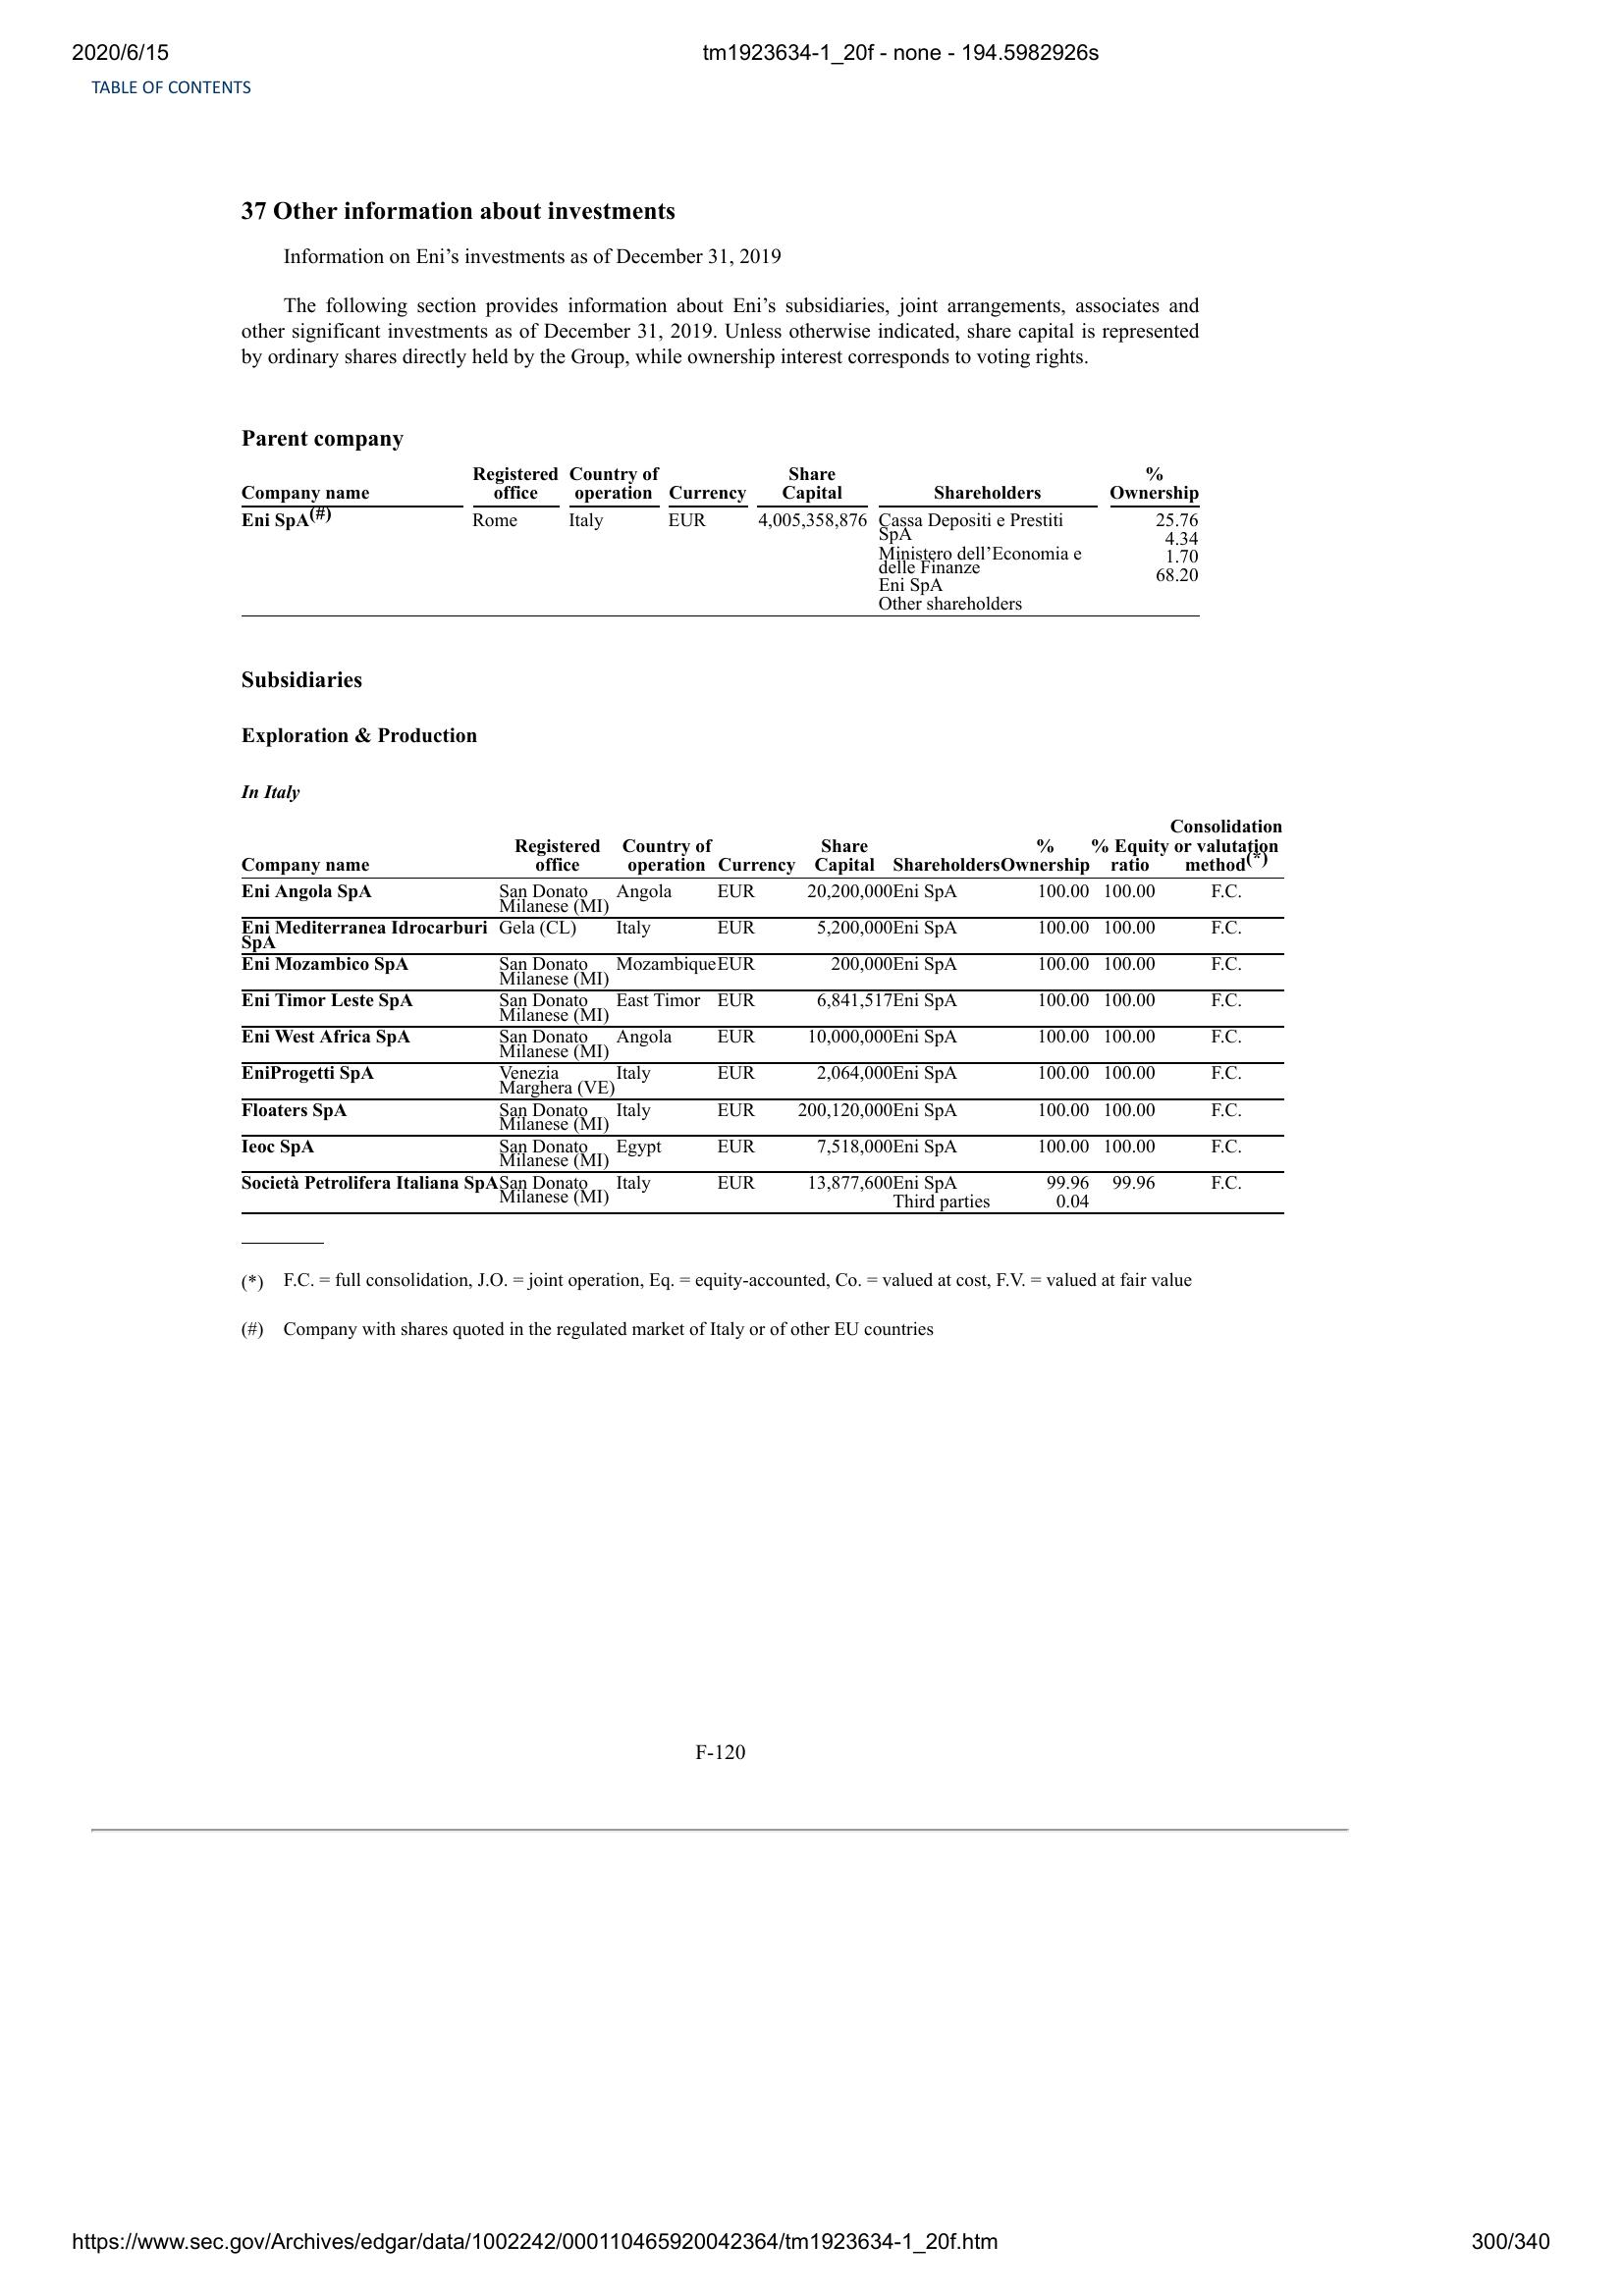table: (235, 814, 1293, 1220), (237, 460, 1205, 618)
